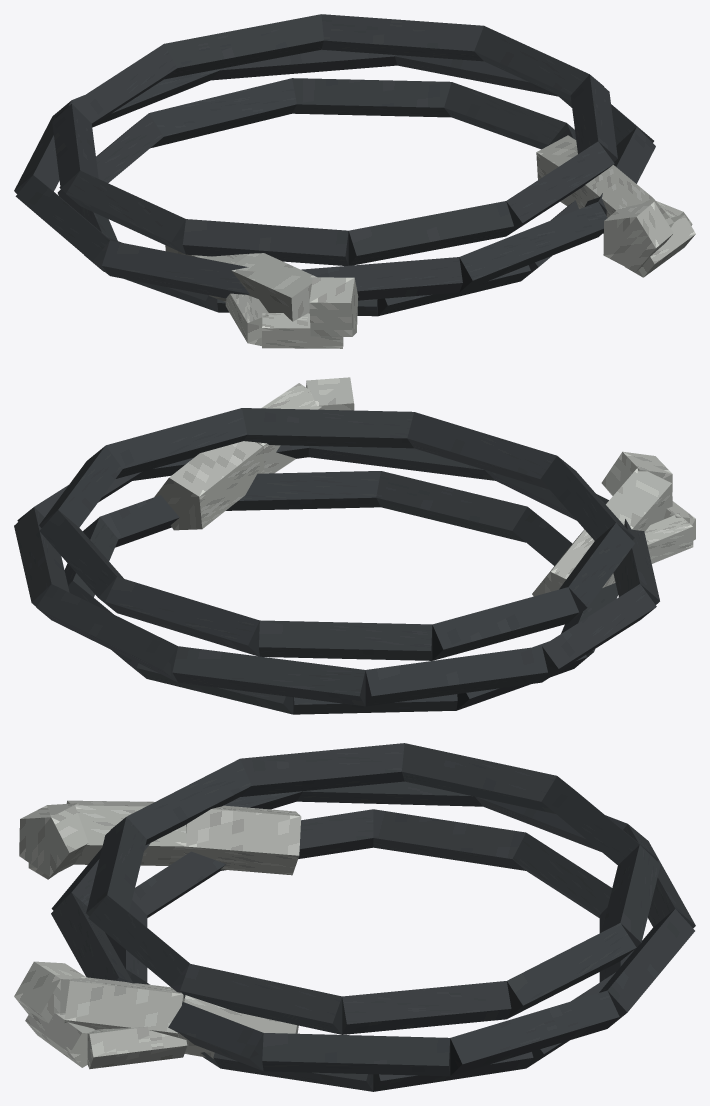
The model's file is hd_tow_cable.glb.
The picture shows the model from 3 angles, top to bottom: view 1: azimuth 30°, elevation 25°; view 2: azimuth 150°, elevation 25°; view 3: azimuth 270°, elevation 25°; orthographic projection. The views are drawn at different scales.
Visible parts, largest first — view 1: block_lead terminal 2 (×2), block_coiled length2-9, block_coiled length2-0, block_coiled length2-5, block_lead terminal 1 (×2), block_coiled length0-8, block_coiled length2-4, block_coiled length1-0, block_coiled length0-7, block_coiled length1-2, block_coiled length1-1, block_coiled length2-1 (+20 smaller); view 2: block_lead terminal 0 (×2), block_coiled length1-5, block_coiled length1-4, block_coiled length2-3, block_coiled length2-8, block_coiled length2-4, block_coiled length2-2, block_coiled length0-2, block_coiled length2-9, block_coiled length0-1, block_coiled length1-6, block_coiled length2-7 (+22 smaller); view 3: block_lead terminal 1 (×2), block_lead terminal 0 (×2), block_coiled length1-8, block_coiled length2-6, block_lead terminal 2 (×2), block_coiled length1-7, block_coiled length2-1, block_coiled length2-7, block_coiled length2-2, block_coiled length0-5, block_coiled length2-5, block_coiled length2-0 (+21 smaller).
Boxes of the visible parts, bbox=[...] form: block_lead terminal 2 (×2): bbox=[309, 201, 673, 336]; block_coiled length2-9: bbox=[348, 201, 513, 265]; block_coiled length2-0: bbox=[182, 219, 348, 265]; block_coiled length2-5: bbox=[321, 14, 483, 61]; block_lead terminal 1 (×2): bbox=[231, 165, 673, 321]; block_coiled length0-8: bbox=[292, 78, 451, 117]; block_coiled length2-4: bbox=[164, 14, 323, 79]; block_coiled length1-0: bbox=[459, 201, 607, 292]; block_coiled length0-7: bbox=[149, 78, 296, 148]; block_coiled length1-2: bbox=[102, 240, 249, 298]; block_coiled length1-1: bbox=[301, 257, 462, 300]; block_coiled length2-1: bbox=[66, 170, 185, 254]; block_lead terminal 0 (×2): bbox=[154, 441, 615, 596]; block_coiled length1-5: bbox=[172, 646, 365, 706]; block_coiled length1-4: bbox=[365, 646, 547, 706]; block_coiled length2-3: bbox=[259, 620, 432, 660]; block_coiled length2-8: bbox=[242, 408, 413, 448]; block_coiled length2-4: bbox=[105, 577, 259, 656]; block_coiled length2-2: bbox=[432, 587, 579, 660]; block_coiled length0-2: bbox=[376, 471, 526, 542]; block_coiled length2-9: bbox=[407, 412, 556, 489]; block_coiled length0-1: bbox=[226, 471, 380, 510]; block_coiled length1-6: bbox=[36, 584, 177, 682]; block_coiled length2-7: bbox=[106, 408, 247, 478]; block_lead terminal 1 (×2): bbox=[64, 800, 186, 1037]; block_lead terminal 0 (×2): bbox=[178, 805, 301, 1058]; block_coiled length1-8: bbox=[262, 1033, 450, 1076]; block_coiled length2-6: bbox=[342, 981, 511, 1034]; block_lead terminal 2 (×2): bbox=[14, 803, 88, 1023]; block_coiled length1-7: bbox=[450, 990, 619, 1076]; block_coiled length2-1: bbox=[240, 743, 404, 796]; block_coiled length2-7: bbox=[180, 964, 342, 1034]; block_coiled length2-2: bbox=[402, 743, 556, 813]; block_coiled length0-5: bbox=[373, 809, 525, 870]; block_coiled length2-5: bbox=[507, 923, 636, 1018]; block_coiled length2-0: bbox=[110, 759, 251, 844].
Size of the model in its own units: 0.3269 by 0.0521 by 0.322.
Materials: 1 (1 with a texture image).
